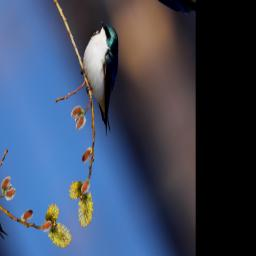Swallow: (70, 12, 145, 137)
